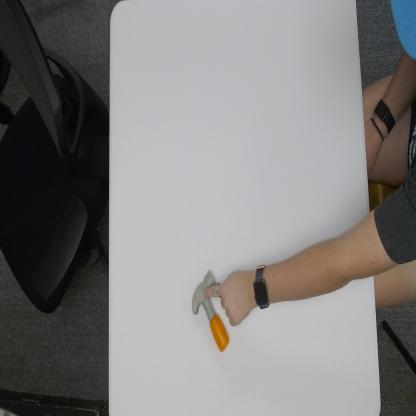Arm: (268, 209, 373, 306)
Hammer: (192, 270, 230, 352)
Hand: (204, 268, 257, 325)
